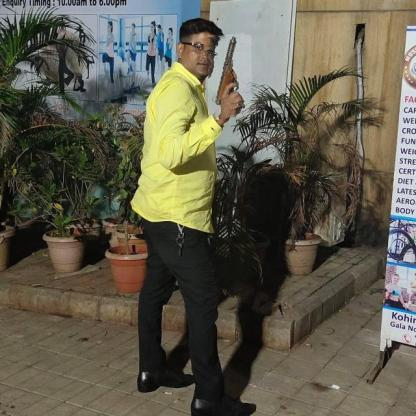handgun: (205, 33, 255, 118)
